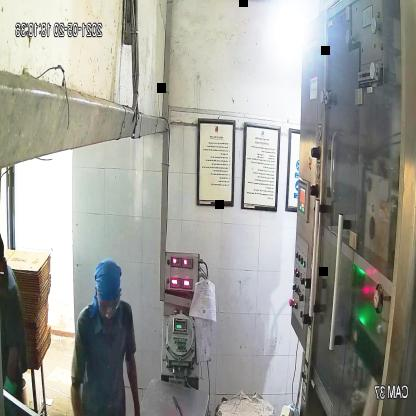goggles: (94, 294, 124, 319)
